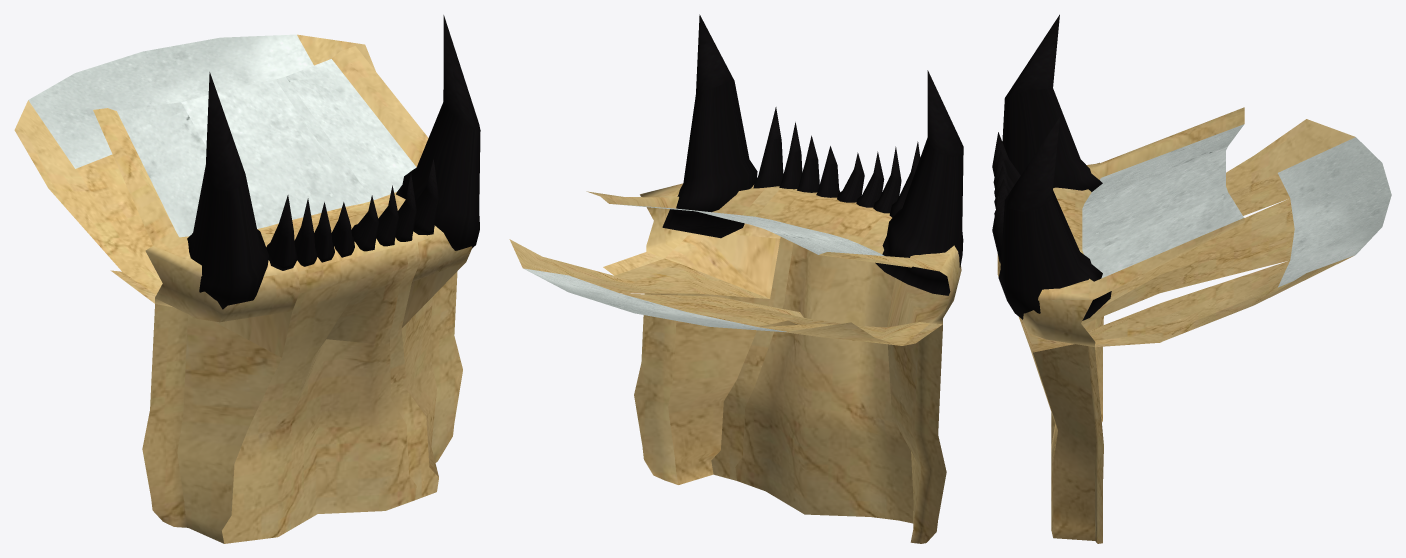
Rendered from devil_mouth_GEO_01.fbx.
3 views of the same model, side by side, from view 1: azimuth 30°, elevation 25°; view 2: azimuth 150°, elevation 25°; view 3: azimuth 270°, elevation 25° (orthographic). The views are drawn at different scales.
Visible parts, largest first — view 1: polySurface4; view 2: polySurface4; view 3: polySurface4.
Boxes of the visible parts, box(x1,y1,x2,y2) form: polySurface4: box(14, 15, 480, 543); polySurface4: box(509, 14, 963, 543); polySurface4: box(992, 14, 1391, 543).
Size of the model in its own units: 0.3699 by 0.482 by 0.405.
3 materials, 3 textured.
